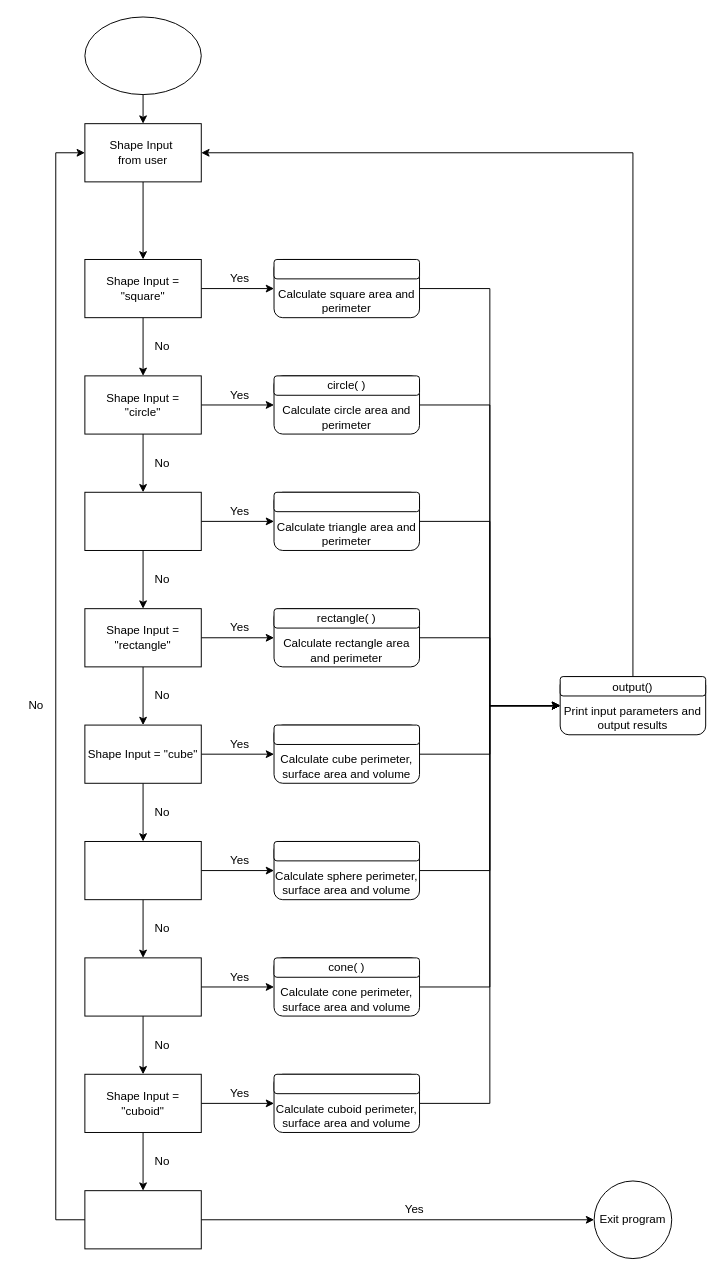
This 723x1276 diagram has some shape labels left out. Each missing label, with the centre of its shape:
cube( ): point 346,734
cuboid( ): point 346,1083
main( ): point 142,55
Shape Input = "-1": point 142,1219
Shape Input = "cone": point 142,986
Shape Input = "sphere": point 142,870
Shape Input = "triangle": point 142,520
sphere( ): point 346,851
square( ): point 346,269
triangle( ): point 346,501
